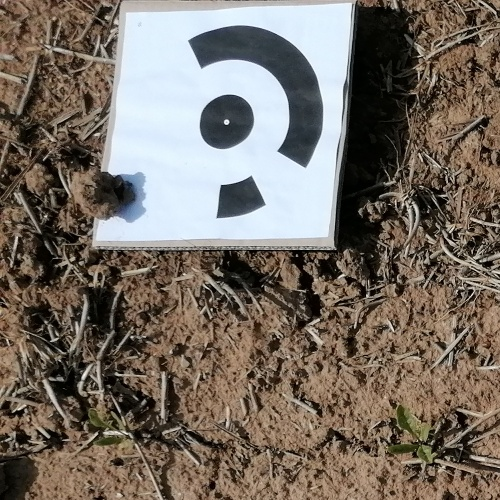beet: (389, 405, 437, 464), (87, 410, 124, 438)
